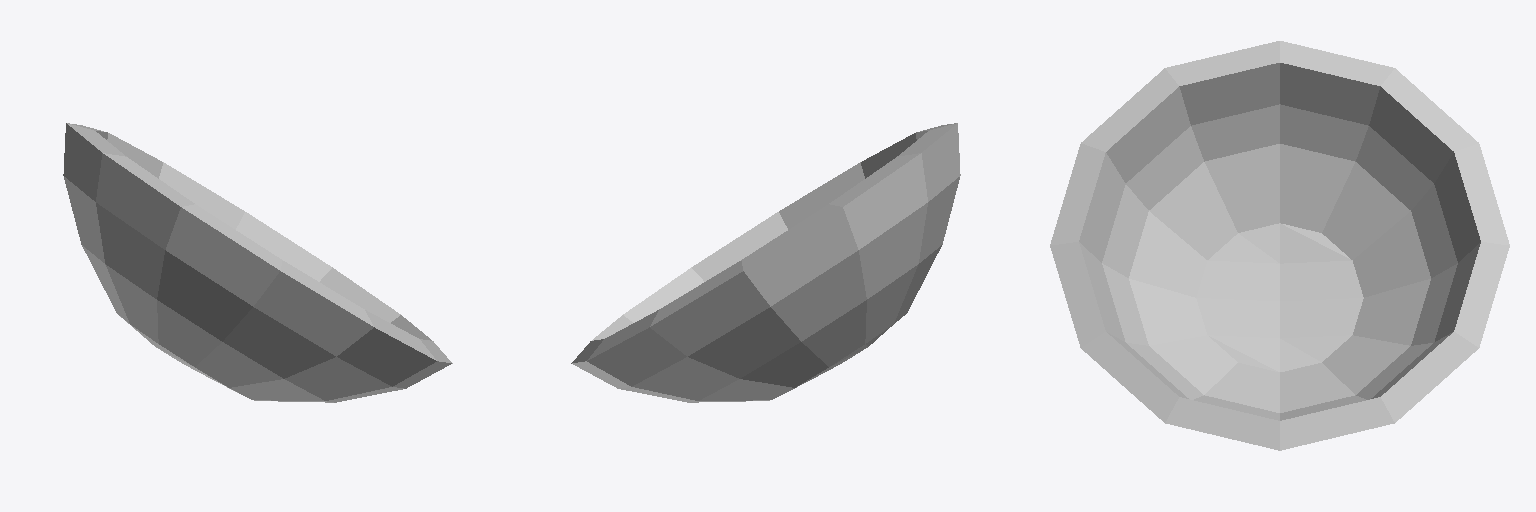
The model's file is parabolica_grande.obj.
The picture shows the model from 3 angles: view 1: azimuth 30°, elevation 25°; view 2: azimuth 150°, elevation 25°; view 3: azimuth 270°, elevation 25°; orthographic projection.
Parts seen in each view (by area): view 1: parab_Cylinder.005; view 2: parab_Cylinder.005; view 3: parab_Cylinder.005.
Part boxes in pixels (x1,y1,x2,y2): parab_Cylinder.005: (63, 123, 452, 402); parab_Cylinder.005: (571, 123, 960, 402); parab_Cylinder.005: (1050, 41, 1509, 450).
Bounding box in the file's own units: 2.96 × 2.48 × 3.69.